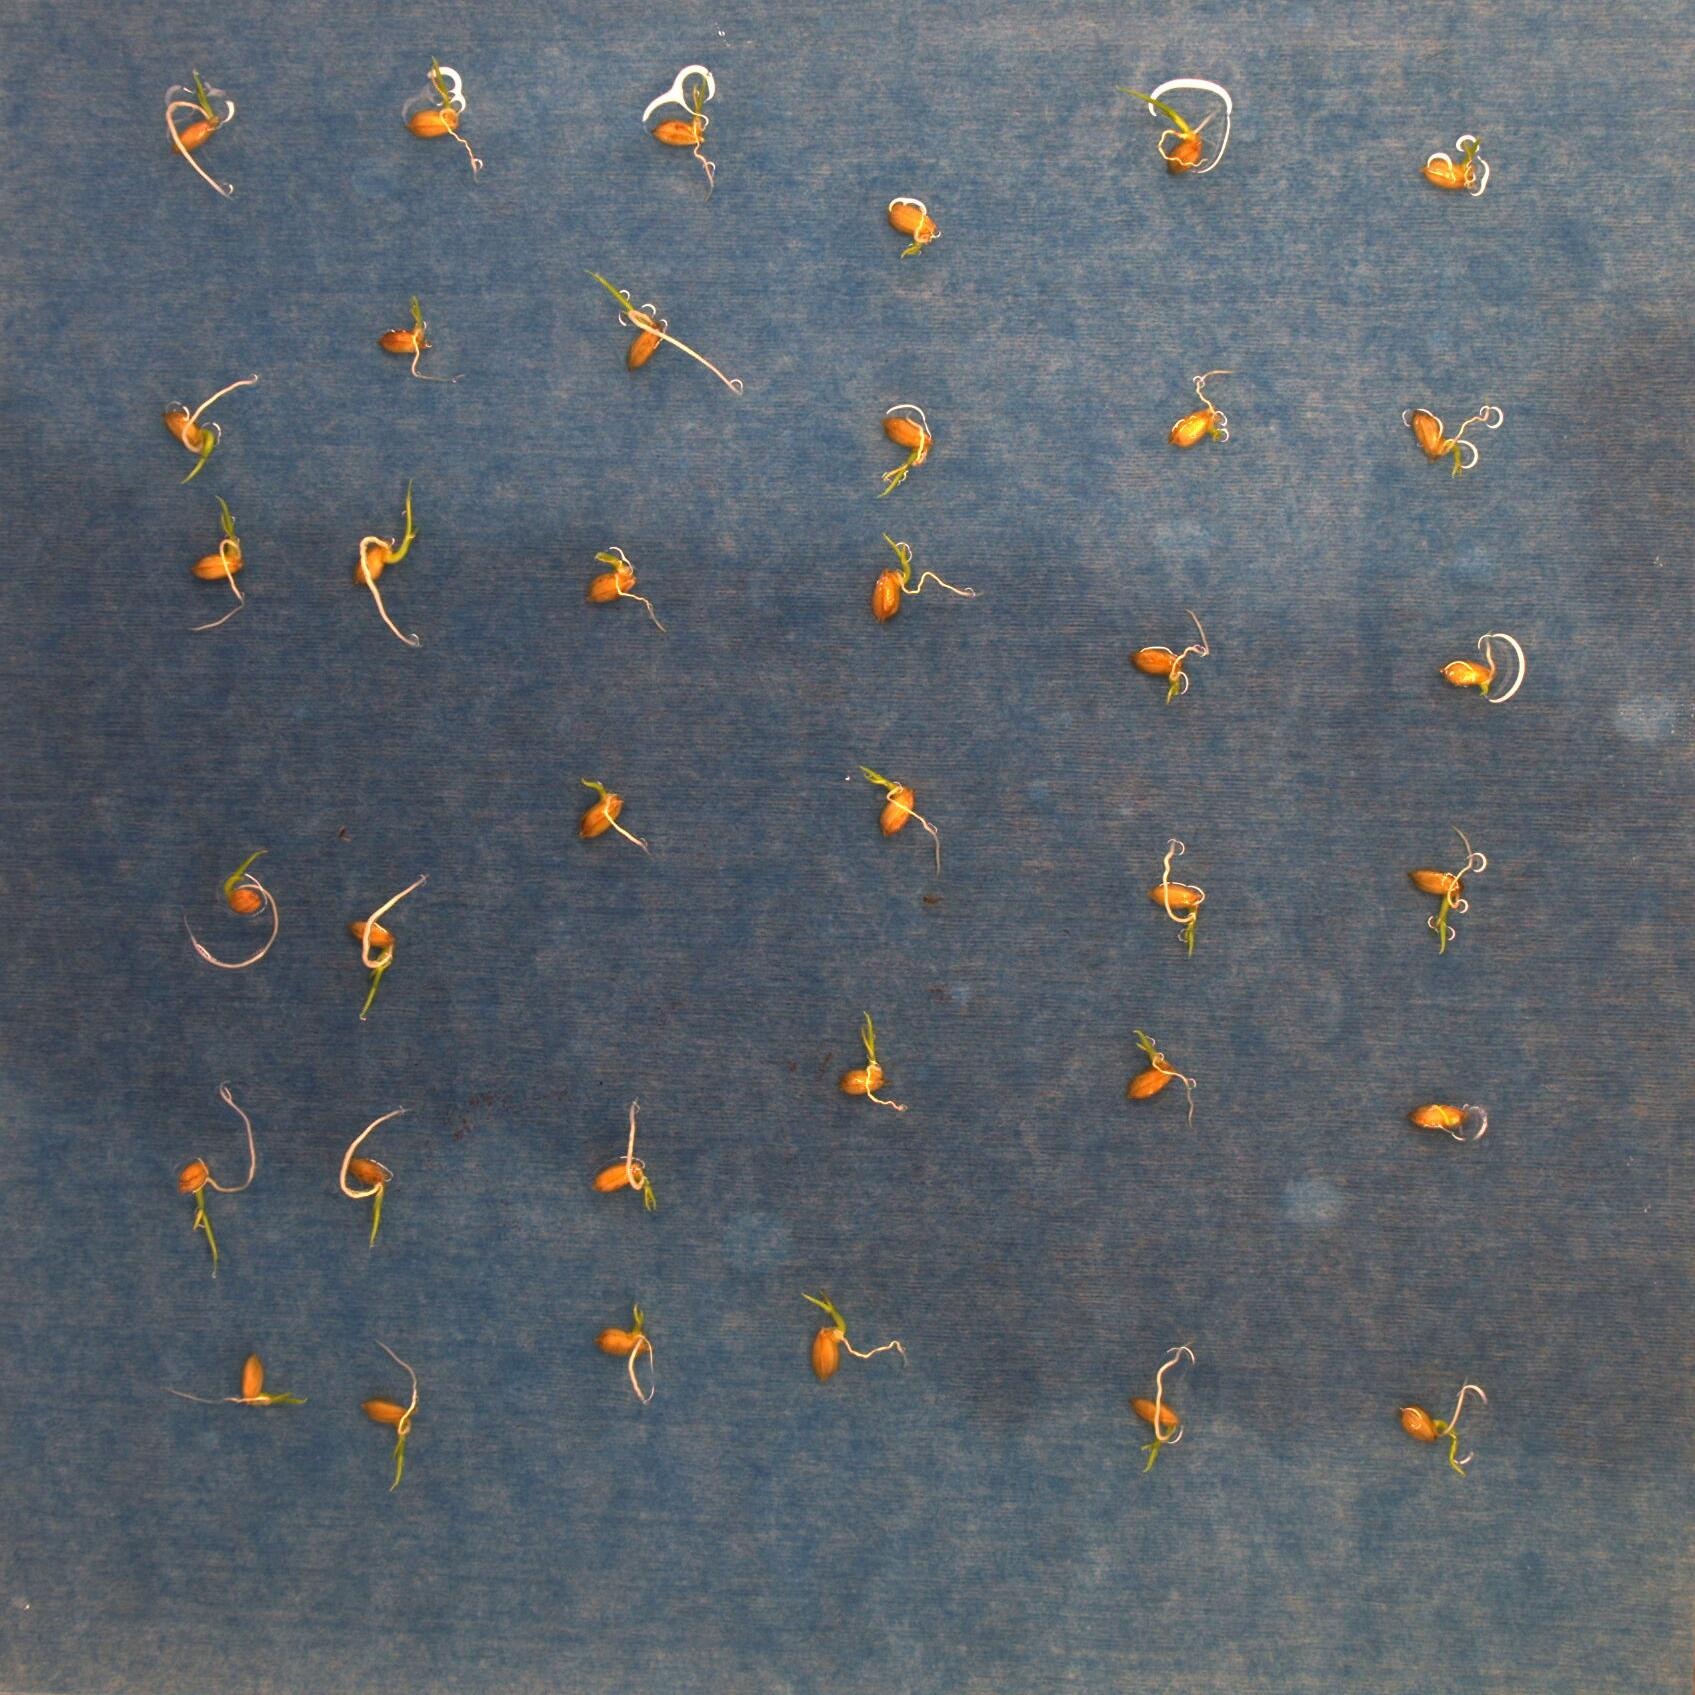not sprout: (1167, 369, 1239, 449), (1440, 632, 1496, 698), (1406, 1104, 1475, 1130)
sprout: (584, 269, 744, 397), (179, 1077, 255, 1281), (345, 872, 428, 1021), (182, 847, 279, 972), (354, 480, 422, 647), (338, 1107, 413, 1251), (165, 374, 258, 486), (799, 1288, 903, 1385), (872, 531, 975, 626), (357, 1338, 419, 1493), (405, 54, 478, 185), (858, 765, 944, 875), (1114, 85, 1218, 175), (1406, 826, 1475, 958), (165, 67, 228, 199), (165, 1352, 307, 1409), (1127, 607, 1209, 706), (652, 75, 716, 202), (188, 494, 245, 633), (1128, 1343, 1189, 1475), (377, 296, 466, 383), (591, 1097, 658, 1212), (1125, 1028, 1194, 1127), (840, 1007, 906, 1108), (1147, 837, 1201, 959), (587, 551, 667, 633), (1400, 1381, 1468, 1478), (594, 1299, 652, 1405), (1411, 407, 1493, 480), (579, 778, 652, 855), (875, 411, 933, 501), (1422, 138, 1482, 192), (888, 202, 936, 259)
